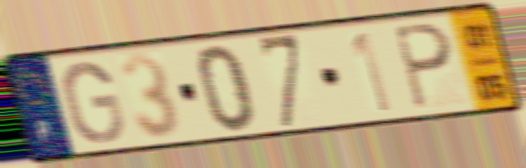0: (196, 41, 258, 135)
1: (350, 30, 394, 113)
3: (121, 48, 180, 144)
7: (256, 32, 307, 132)
G: (60, 58, 128, 147)
P: (389, 20, 456, 113)
